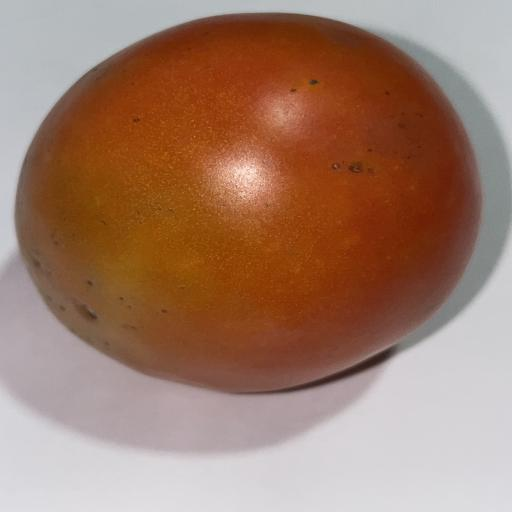unripe: (16, 13, 481, 392)
